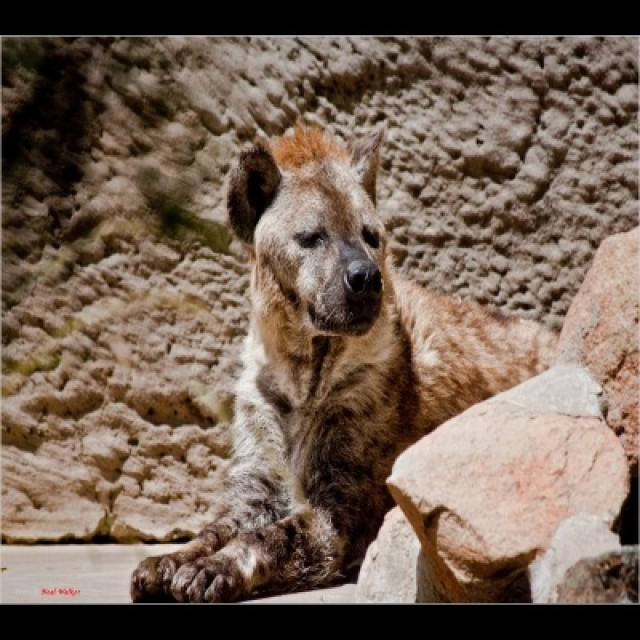hyena: (130, 123, 562, 602)
